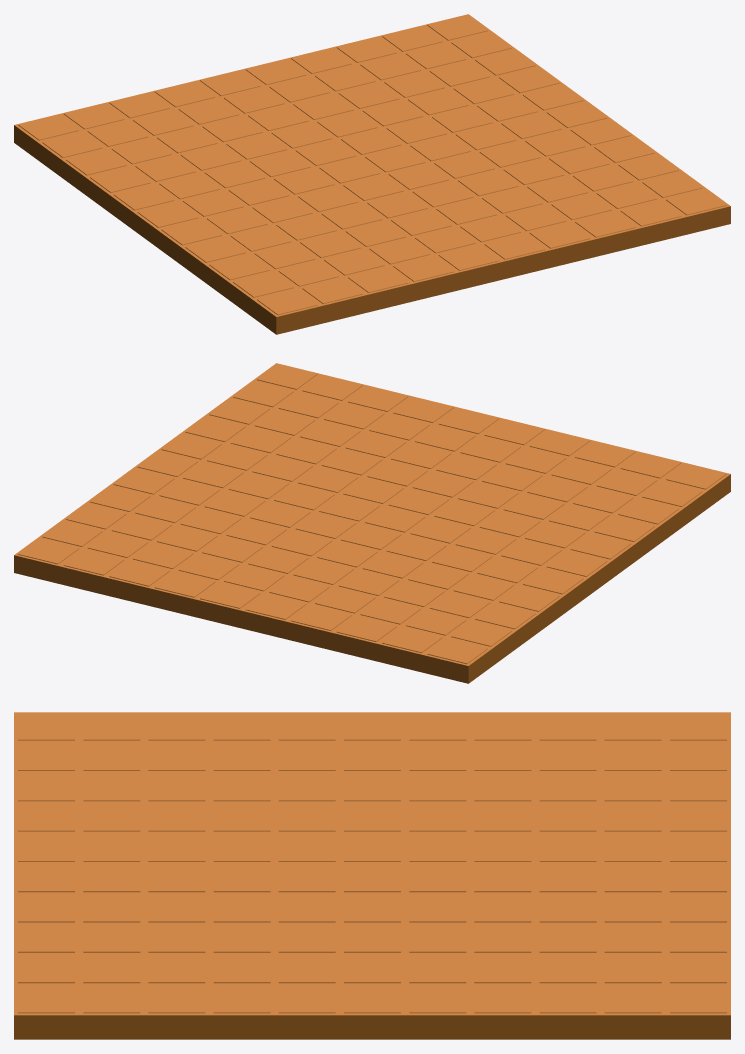
The model's file is (YnZp)ChaoLowPolly.fbx.
3 renders of one model, top to bottom at view 1: azimuth 30°, elevation 25°; view 2: azimuth 150°, elevation 25°; view 3: azimuth 270°, elevation 25°, orthographic. The views are drawn at different scales.
Visible parts, largest first — view 1: Cube; view 2: Cube; view 3: Cube.
Part boxes in pixels (<box>): Cube: <box>14,14,730,334</box>; Cube: <box>14,363,730,683</box>; Cube: <box>14,712,730,1039</box>.
Bounding box in the file's own units: 1922 × 1922 × 75.02.
